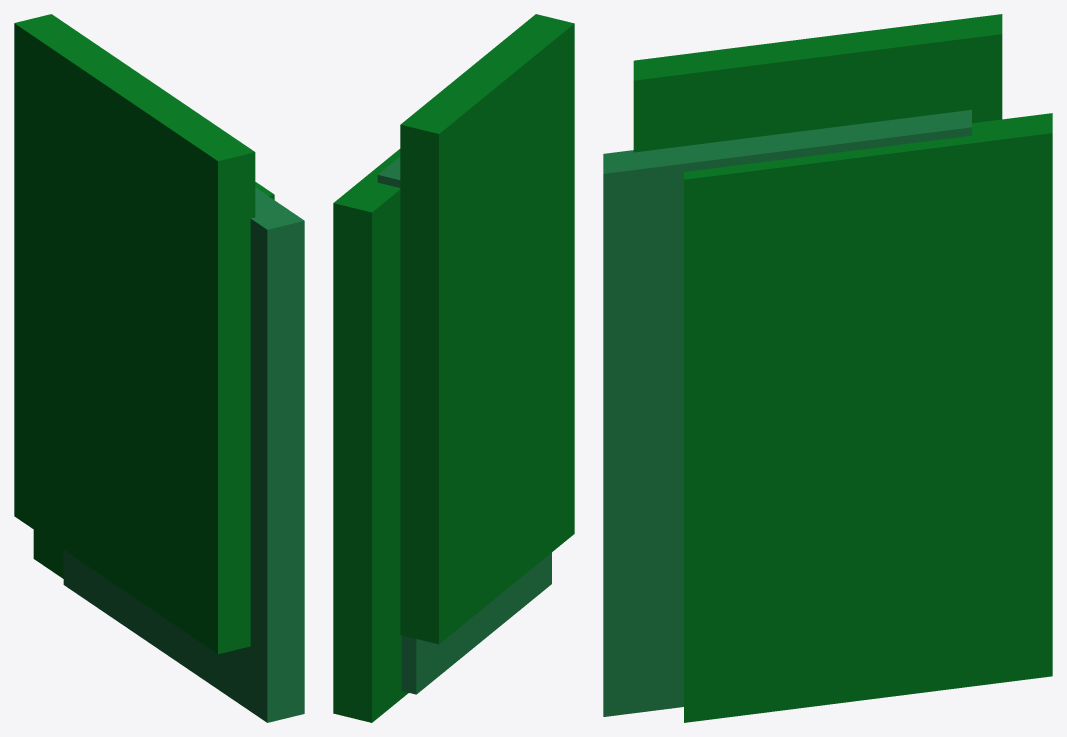
The model's file is scales.glb.
3 views of the same model, side by side, from view 1: azimuth 30°, elevation 25°; view 2: azimuth 150°, elevation 25°; view 3: azimuth 270°, elevation 25° (orthographic). The views are drawn at different scales.
Visible parts, largest first — view 1: Cube.001; view 2: Cube.001; view 3: Cube.001.
Part boxes in pixels (left/top/right/bottom): Cube.001: left=14, top=14, right=304, bottom=722; Cube.001: left=333, top=14, right=574, bottom=722; Cube.001: left=603, top=14, right=1052, bottom=722.
Bounding box in the file's own units: 0.4421 × 2.14 × 1.35.
